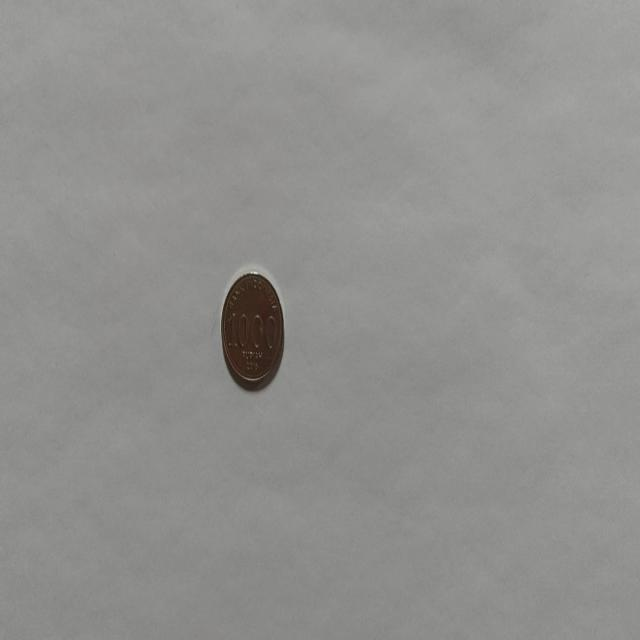seribu rupiah koin: (220, 268, 284, 390)
